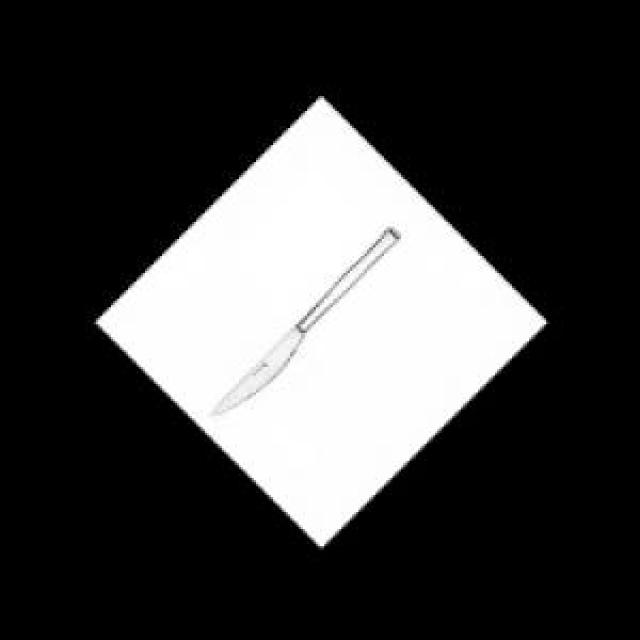knife: (209, 222, 410, 423)
